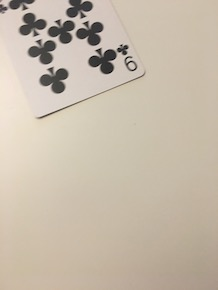NineOfClubs: (1, 1, 150, 124)
